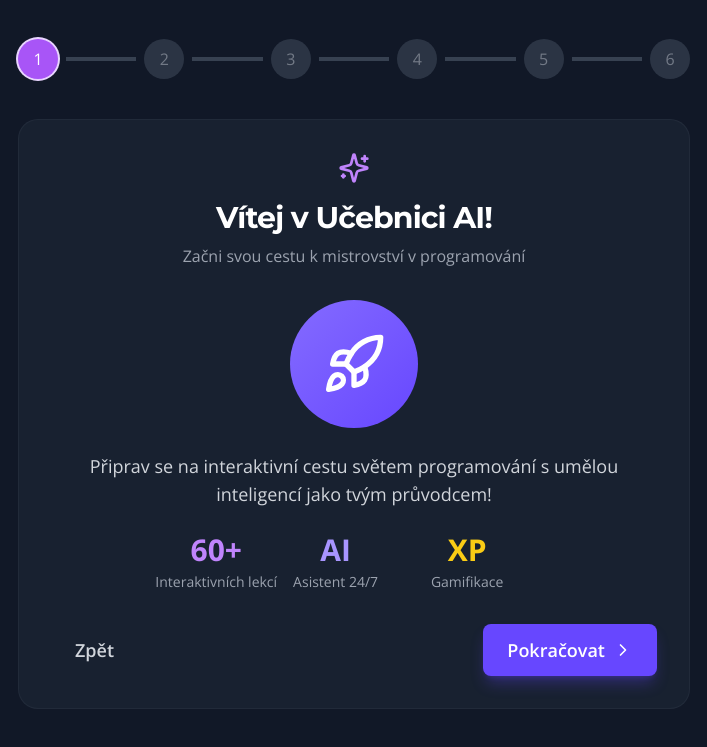
Scenario: OnboardingFlow › associates registration labels with their form controls
Click the button "Pokračovat": {"x": 570, "y": 650} [483,624,657,676]
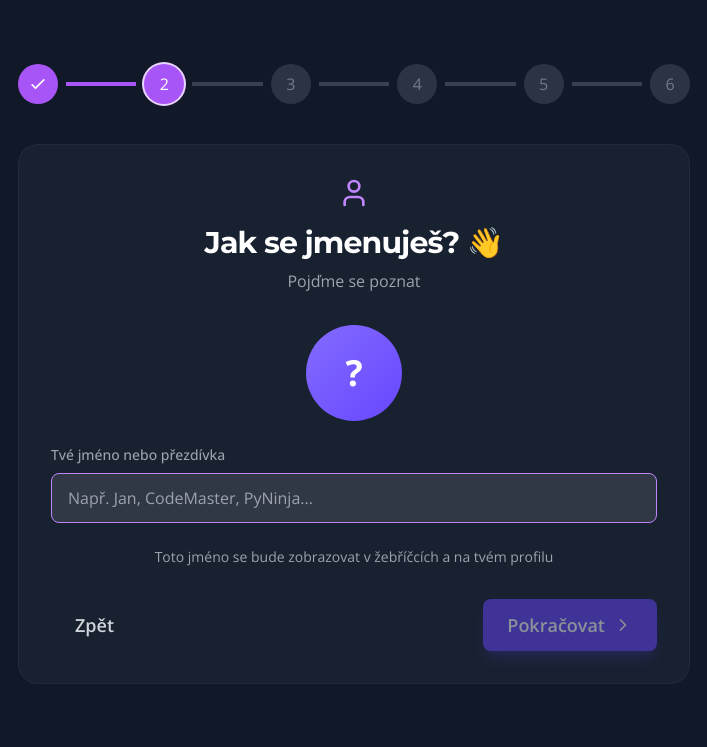
Check: the heading "Jak se jmenuješ? 👋" is shown, box [205,225,503,261]
In the field labelled "Tvé jméno nebo přezdívka": {"x": 354, "y": 498} [51,473,657,523], type "Test User"
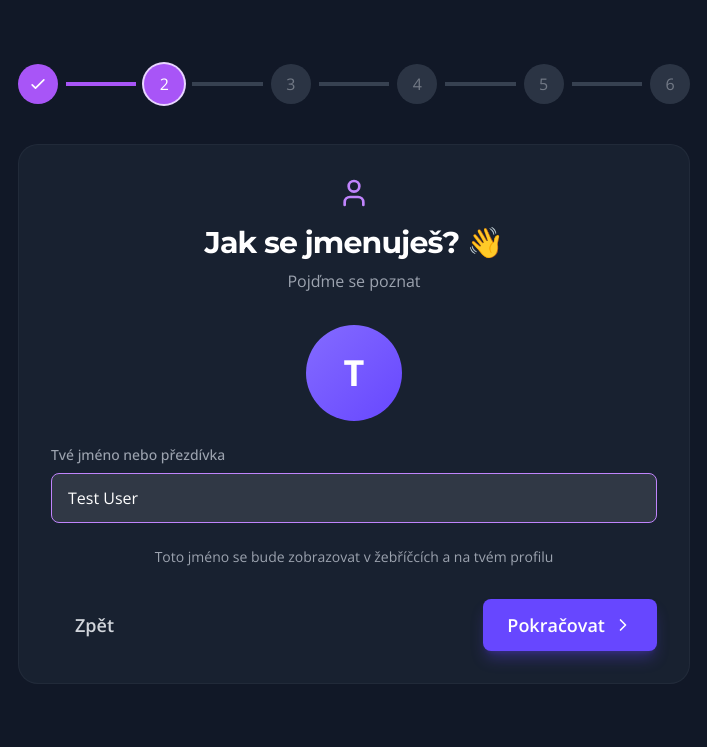
Click the button "Pokračovat": {"x": 570, "y": 625} [483,599,657,651]
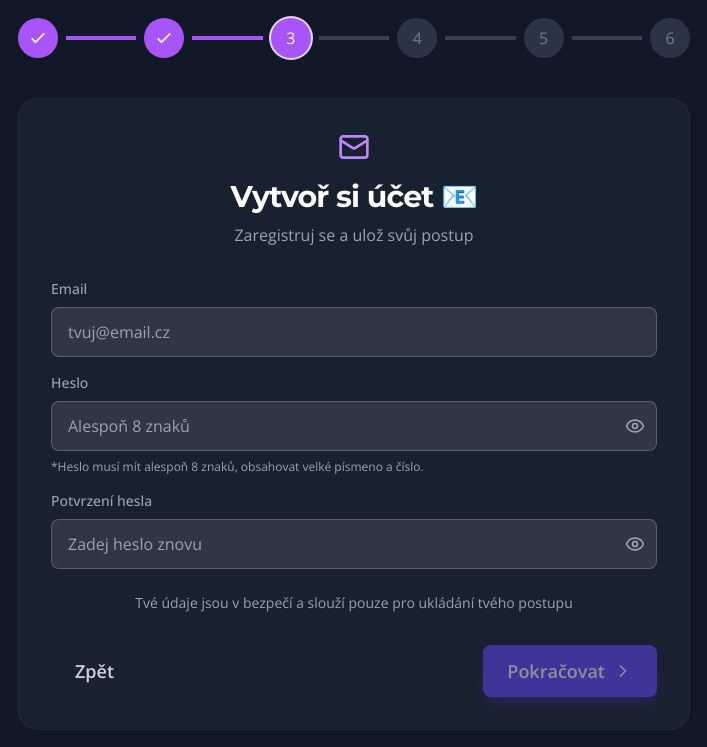
Check: the heading "Vytvoř si účet 📧" is shown, box [230,179,478,215]
